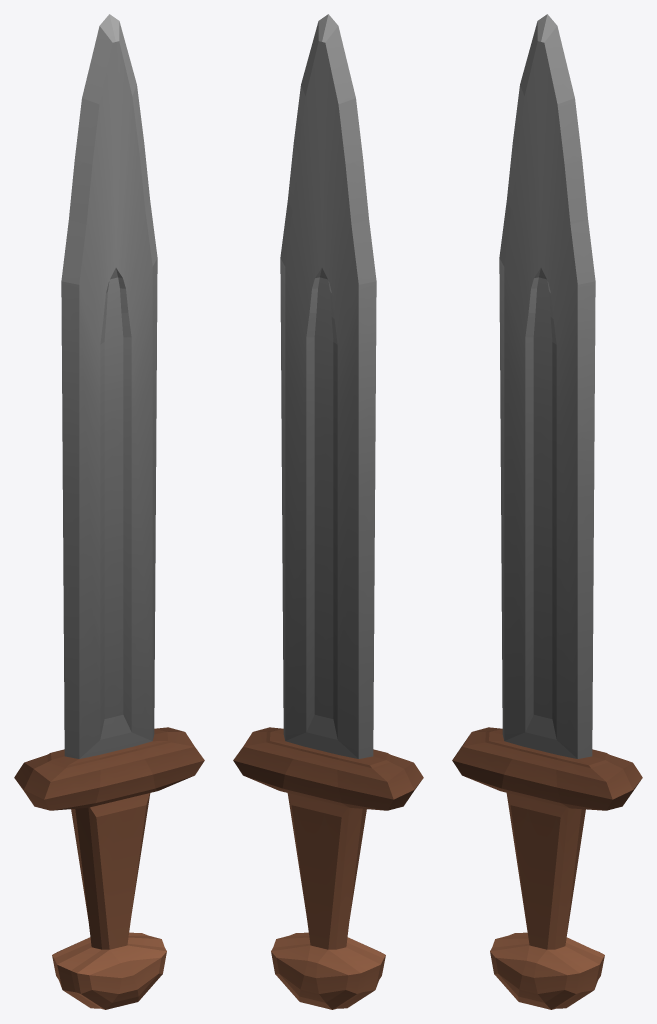
File: Sword_Viking.fbx
The picture shows the model from 3 angles, left to right: view 1: azimuth 30°, elevation 25°; view 2: azimuth 150°, elevation 25°; view 3: azimuth 330°, elevation 25°; orthographic projection.
Visible parts, largest first — view 1: Sword_Viking; view 2: Sword_Viking; view 3: Sword_Viking.
Part boxes in pixels (x1,y1,x2,y2): Sword_Viking: (14,14,204,1009); Sword_Viking: (233,14,423,1009); Sword_Viking: (452,14,642,1009).
Bounding box in the file's own units: 54.64 × 301 × 20.79.
